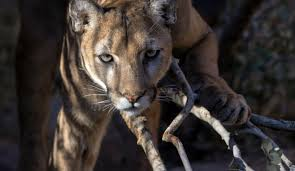Mountain Lion: (60, 3, 186, 113)
